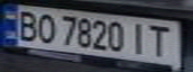0: (106, 18, 130, 53)
2: (90, 17, 109, 52)
7: (54, 12, 78, 47)
8: (75, 16, 93, 48)
B: (12, 8, 42, 42)
I: (127, 20, 151, 56)
O: (33, 11, 57, 44)
T: (145, 21, 178, 57)
